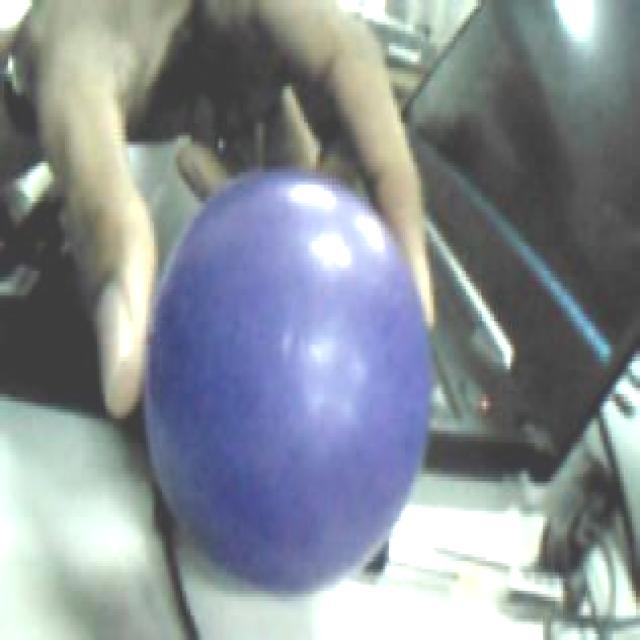BallPurple: (144, 172, 430, 595)
